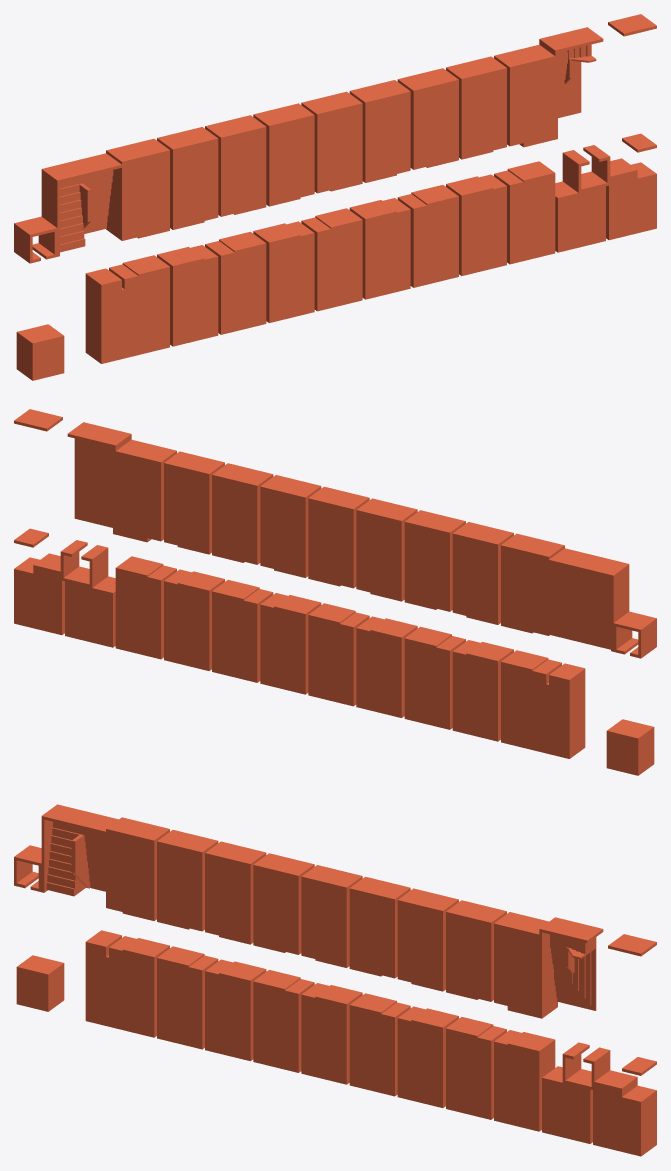
The model's file is Boceto Edifico A - Piso 1.obj.
3 renders of one model, top to bottom at view 1: azimuth 30°, elevation 25°; view 2: azimuth 150°, elevation 25°; view 3: azimuth 330°, elevation 25°, orthographic.
Parts seen in each view (by area): view 1: Cuerpo3, Cuerpo15, Cuerpo2, Cuerpo22, Cuerpo1, Cuerpo21, Cuerpo16, Cuerpo7, Cuerpo4, Cuerpo17, Cuerpo5, Cuerpo19 (+14 smaller); view 2: Cuerpo3, Cuerpo15, Cuerpo2, Cuerpo22, Cuerpo1, Cuerpo21, Cuerpo16, Cuerpo7, Cuerpo4, Cuerpo17, Cuerpo5, Cuerpo19 (+14 smaller); view 3: Cuerpo3, Cuerpo15, Cuerpo23, Cuerpo1, Cuerpo10, Cuerpo13, Cuerpo5, Cuerpo18, Cuerpo19, Cuerpo16, Cuerpo7, Cuerpo21 (+14 smaller).
Part boxes in pixels (x1,y1,x2,y2): Cuerpo3: (85, 255, 169, 363); Cuerpo15: (41, 149, 124, 256); Cuerpo2: (301, 208, 362, 311); Cuerpo22: (397, 185, 458, 287); Cuerpo1: (494, 161, 555, 264); Cuerpo21: (205, 231, 266, 334); Cuerpo16: (349, 80, 410, 182); Cuerpo7: (253, 103, 314, 206); Cuerpo4: (494, 44, 555, 146); Cuerpo17: (157, 127, 218, 229); Cuerpo5: (301, 91, 362, 193); Cuerpo19: (397, 68, 458, 169); Cuerpo3: (501, 650, 585, 758); Cuerpo15: (546, 544, 629, 651); Cuerpo2: (308, 603, 369, 706); Cuerpo22: (212, 580, 273, 682); Cuerpo1: (115, 556, 176, 659); Cuerpo21: (404, 626, 465, 729); Cuerpo16: (260, 475, 321, 577); Cuerpo7: (356, 498, 417, 601); Cuerpo4: (115, 439, 176, 541); Cuerpo17: (452, 522, 513, 624); Cuerpo5: (308, 486, 369, 588); Cuerpo19: (212, 463, 273, 564); Cuerpo3: (85, 930, 169, 1037); Cuerpo15: (41, 804, 123, 908); Cuerpo23: (507, 917, 603, 1018); Cuerpo1: (494, 1030, 555, 1131); Cuerpo10: (253, 970, 314, 1072); Cuerpo13: (349, 993, 410, 1096); Cuerpo5: (301, 865, 362, 967); Cuerpo18: (205, 841, 266, 944); Cuerpo19: (397, 888, 458, 991); Cuerpo16: (349, 876, 410, 978); Cuerpo7: (253, 853, 314, 954); Cuerpo21: (205, 959, 266, 1061).
Size of the model in its own units: 45.6 by 14.1 by 2.
